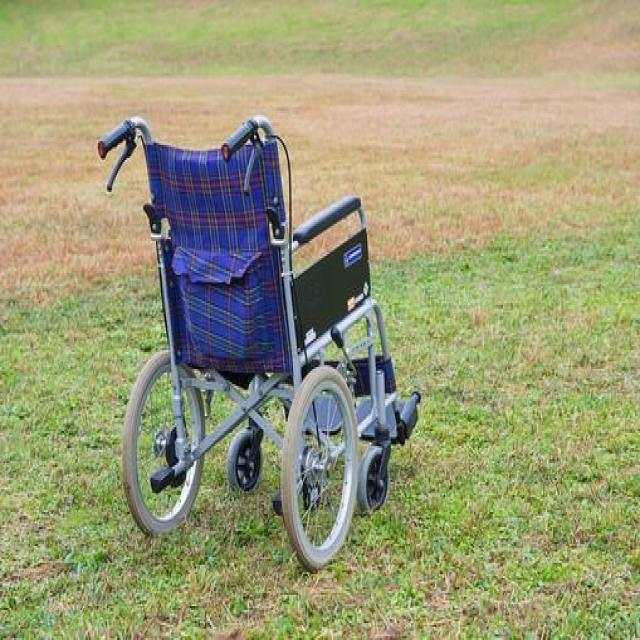wheelchairs: (82, 114, 430, 592)
